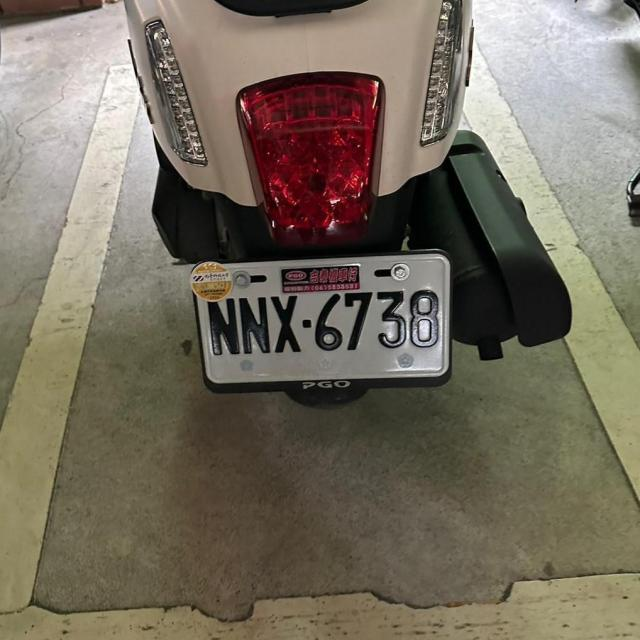W: (184, 240, 460, 397)
